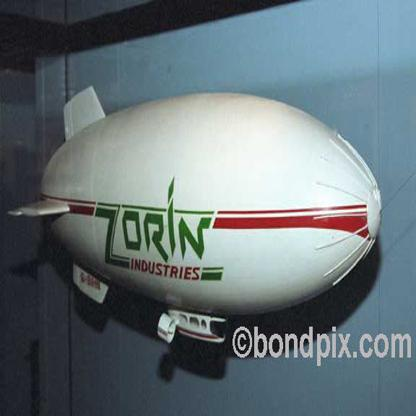Airship: (10, 89, 380, 323)
